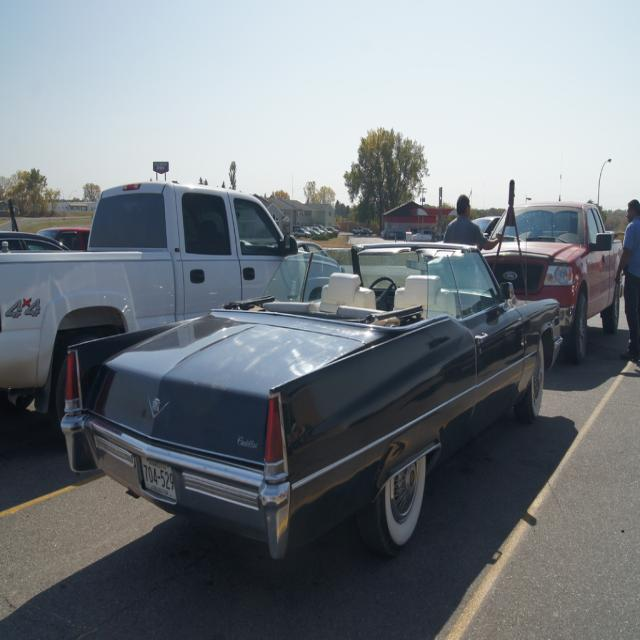car: (59, 242, 562, 551)
